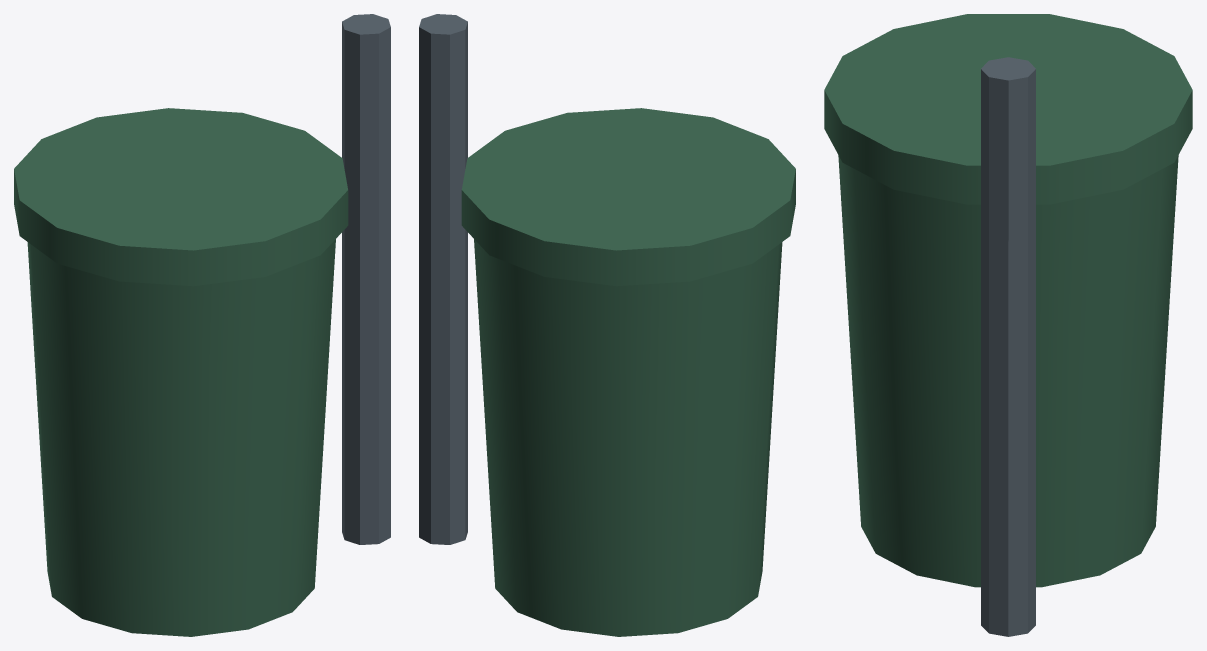
File: caneca.fbx
The picture shows the model from 3 angles, left to right: view 1: azimuth 30°, elevation 25°; view 2: azimuth 150°, elevation 25°; view 3: azimuth 270°, elevation 25°; orthographic projection. The views are drawn at different scales.
Parts seen in each view (by area): view 1: bin, bin_02, streetMetal; view 2: bin, bin_02, streetMetal; view 3: bin, bin_02, streetMetal.
Part boxes in pixels (x1,y1,x2,y2): bin: [27, 239, 335, 636]; bin_02: [14, 108, 348, 286]; streetMetal: [342, 14, 390, 544]; bin: [474, 239, 782, 636]; bin_02: [461, 108, 795, 286]; streetMetal: [419, 14, 467, 544]; bin: [838, 155, 1178, 587]; bin_02: [824, 14, 1192, 204]; streetMetal: [981, 57, 1035, 636].
Size of the model in its own units: 0.7175 by 1 by 0.6.
